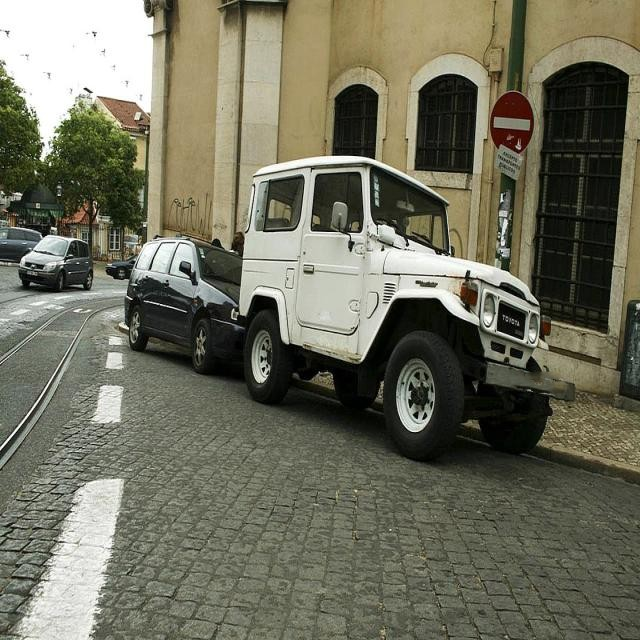car: (239, 156, 547, 456), (123, 238, 232, 372), (17, 231, 95, 299)
